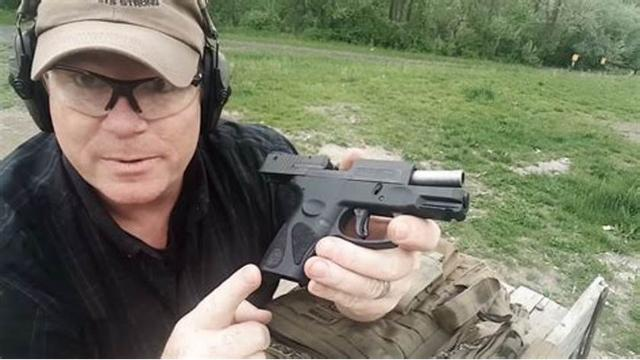handgun: (252, 147, 476, 291)
